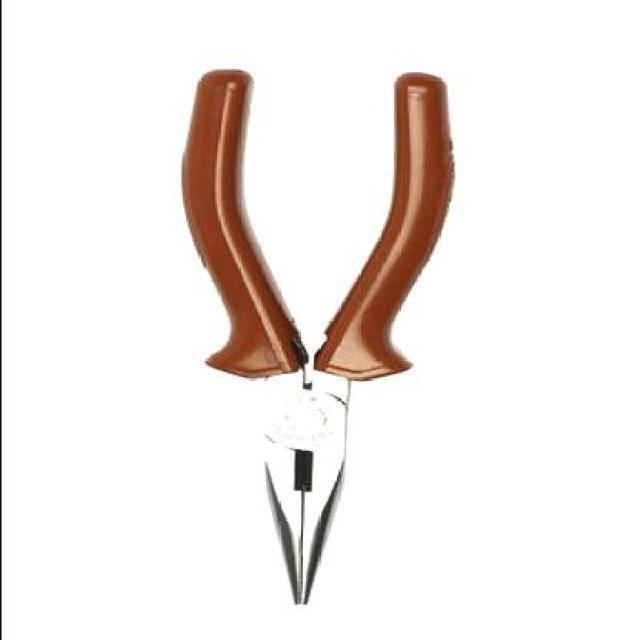pliers: (175, 69, 456, 608)
